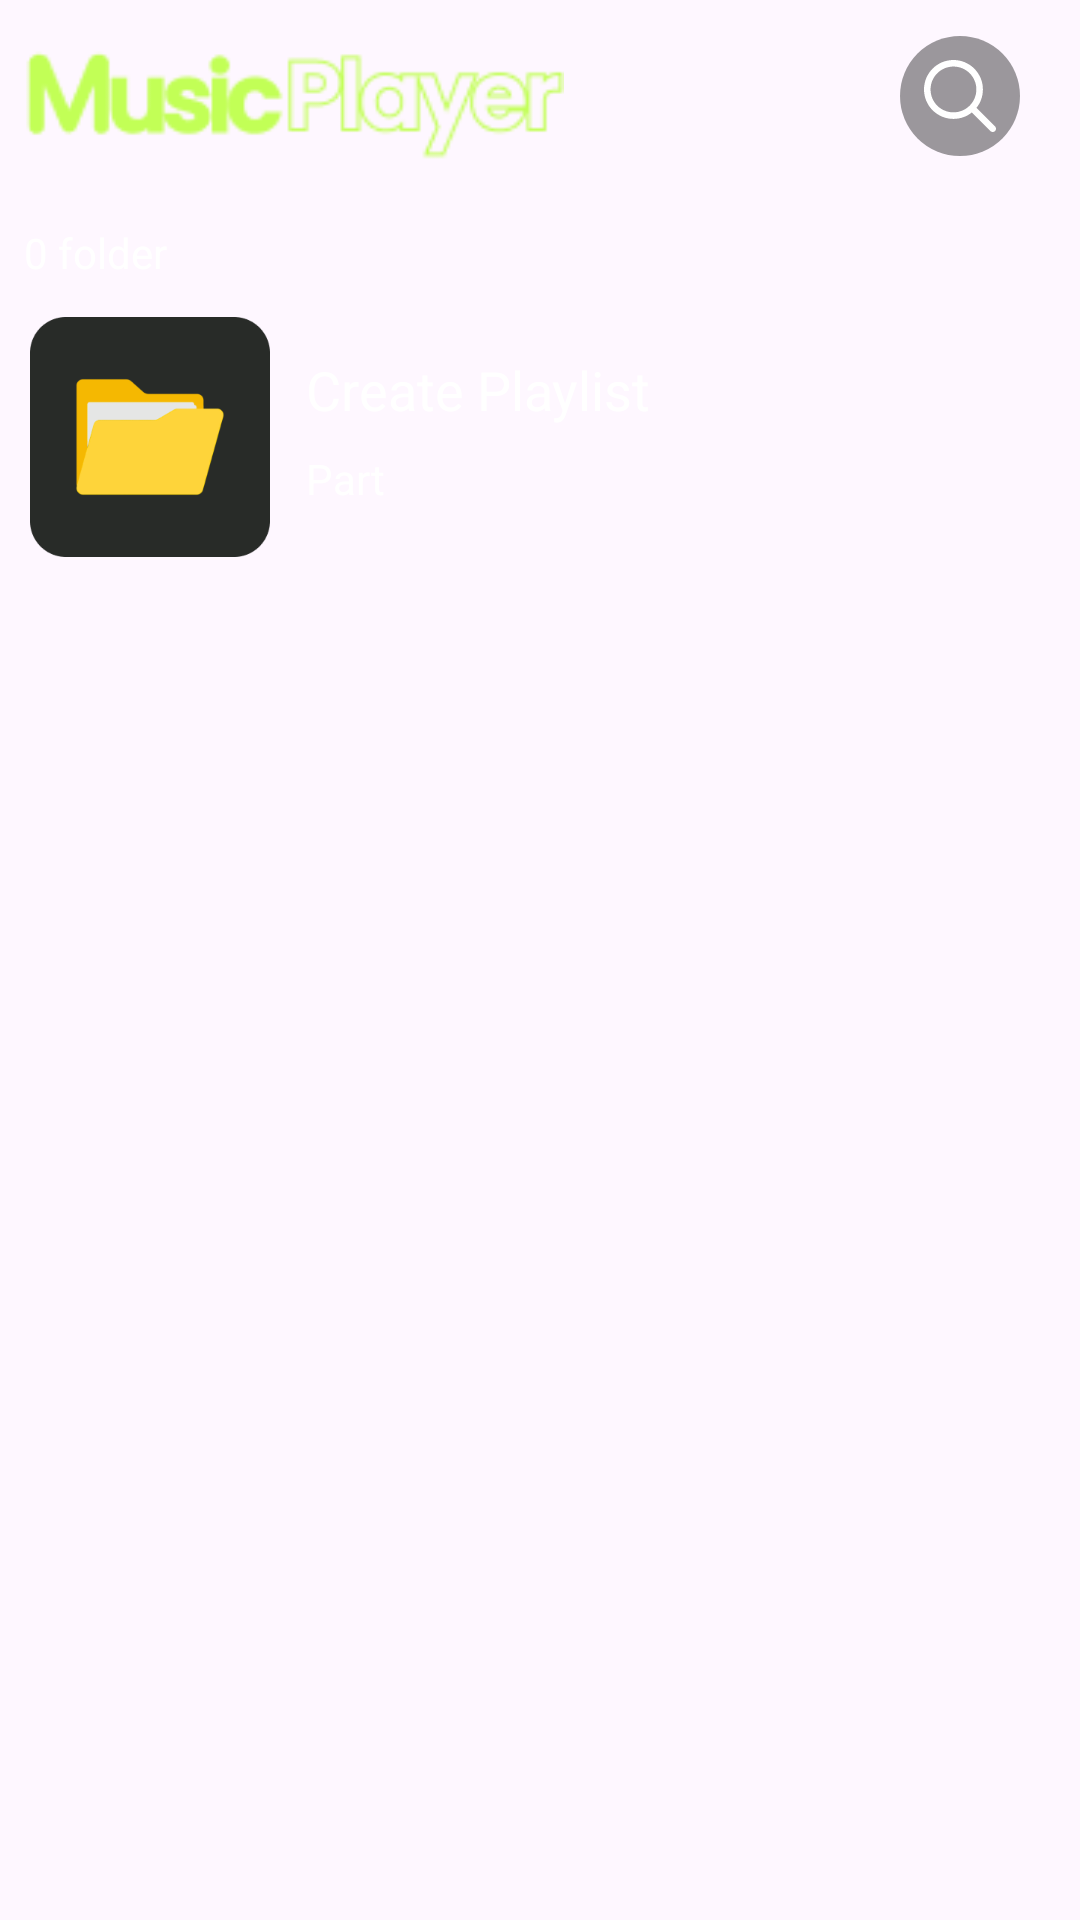

Named icons in this screenshot (1080*1920) and their centers, (x=x, y=y):
search: (x=960, y=96)
